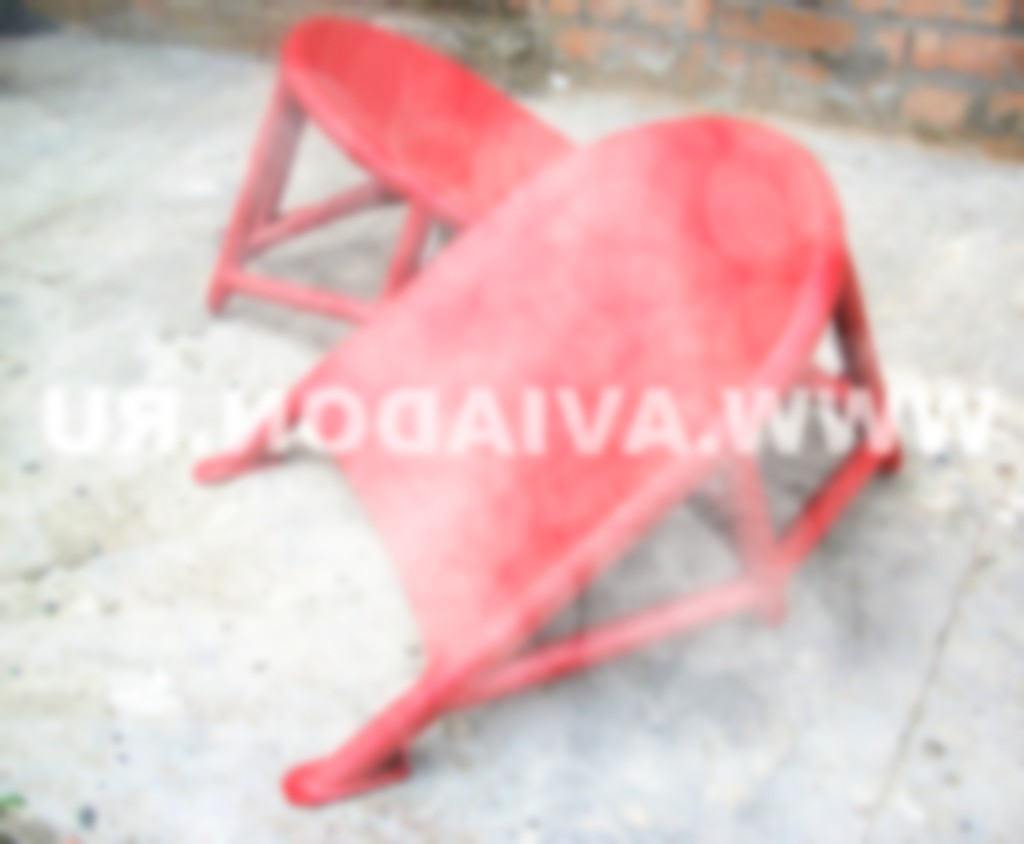chock: (192, 116, 906, 802), (198, 14, 580, 312)
